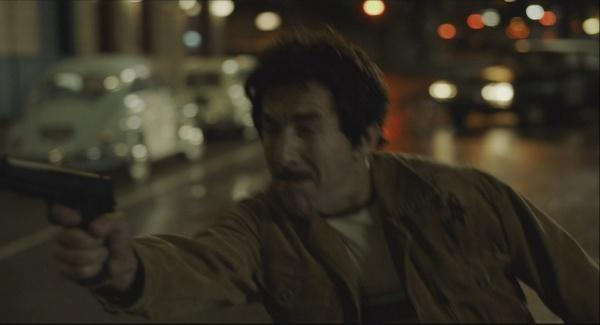Gun: (0, 157, 115, 231)
